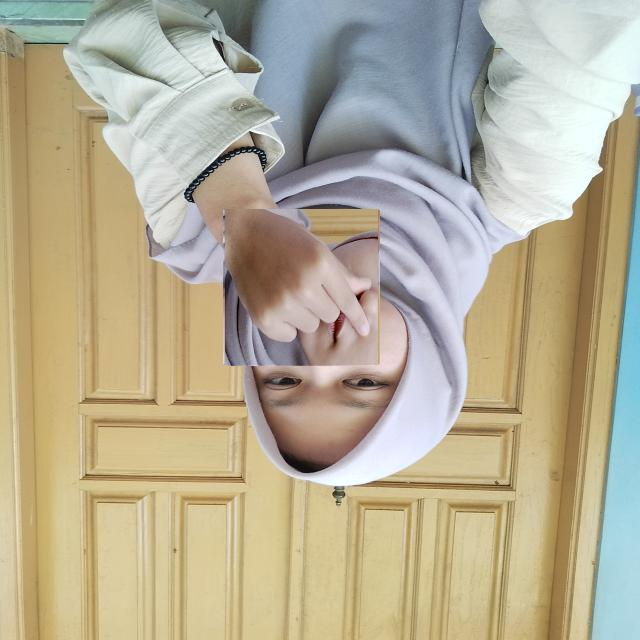bau: (224, 209, 379, 365)
